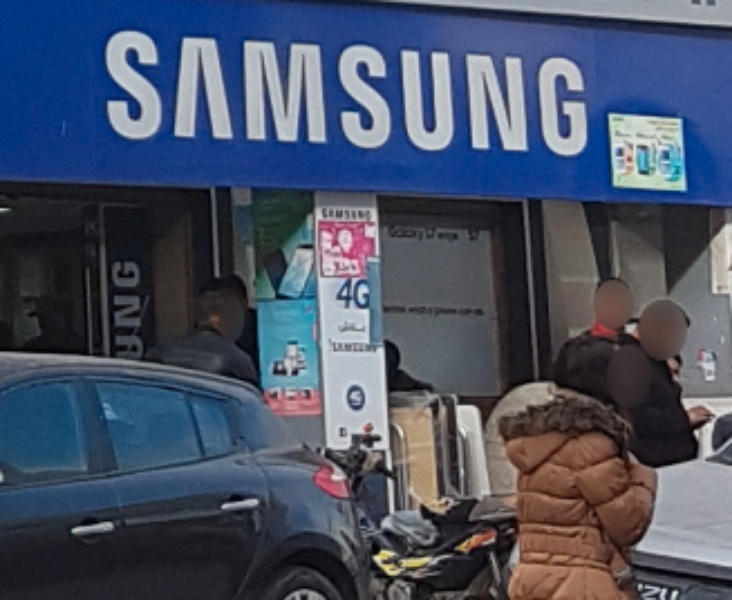text: (113, 27, 128, 157), (129, 27, 144, 157), (145, 27, 160, 157), (161, 27, 176, 157), (177, 27, 192, 157), (193, 27, 208, 157), (209, 27, 224, 157), (225, 27, 240, 157), (241, 27, 256, 157), (257, 27, 272, 157), (273, 27, 288, 157), (289, 27, 304, 157), (305, 27, 320, 157), (321, 27, 336, 157), (337, 27, 352, 157), (353, 27, 368, 157), (369, 27, 384, 157), (385, 27, 400, 157), (401, 27, 416, 157), (417, 27, 432, 157), (433, 27, 448, 157), (449, 27, 464, 157), (465, 27, 480, 157), (481, 27, 496, 157), (497, 27, 512, 157), (513, 27, 528, 157), (529, 27, 544, 157), (545, 27, 560, 157), (561, 27, 576, 157), (113, 256, 128, 365), (129, 256, 144, 365), (577, 27, 589, 157), (103, 27, 112, 157), (106, 256, 112, 365), (337, 276, 352, 312), (353, 276, 368, 312), (321, 206, 336, 222), (337, 206, 352, 222), (353, 206, 368, 222), (145, 256, 146, 365), (369, 276, 372, 312), (369, 206, 374, 222), (318, 206, 320, 222)
